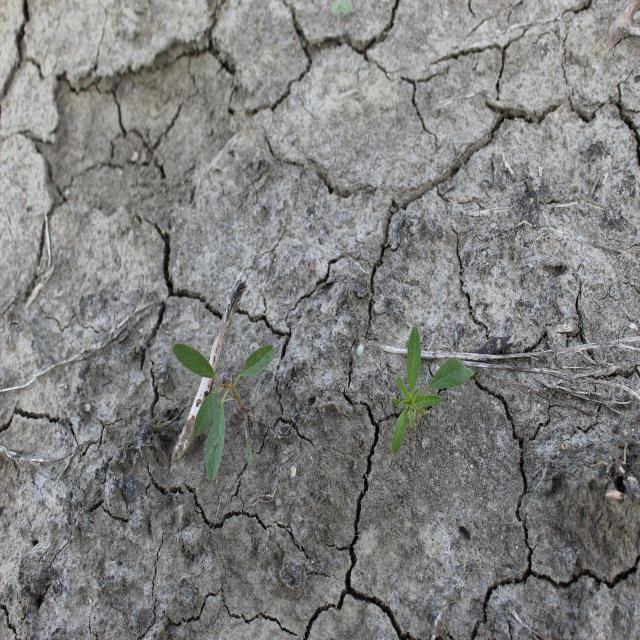Waterhemp: (172, 342, 276, 482), (390, 324, 477, 454)
